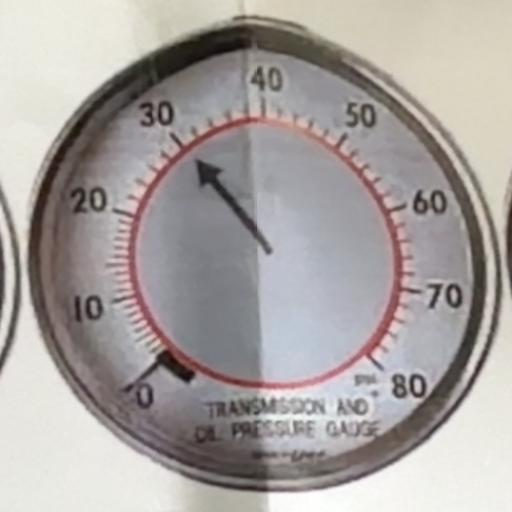needle: (177, 144, 293, 273)
